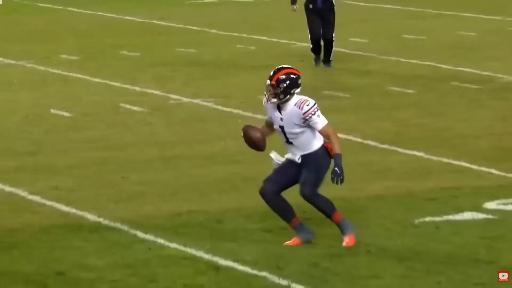Helmet: (266, 66, 301, 103)
Jersey: (264, 95, 327, 155)
Player: (260, 66, 355, 246)
